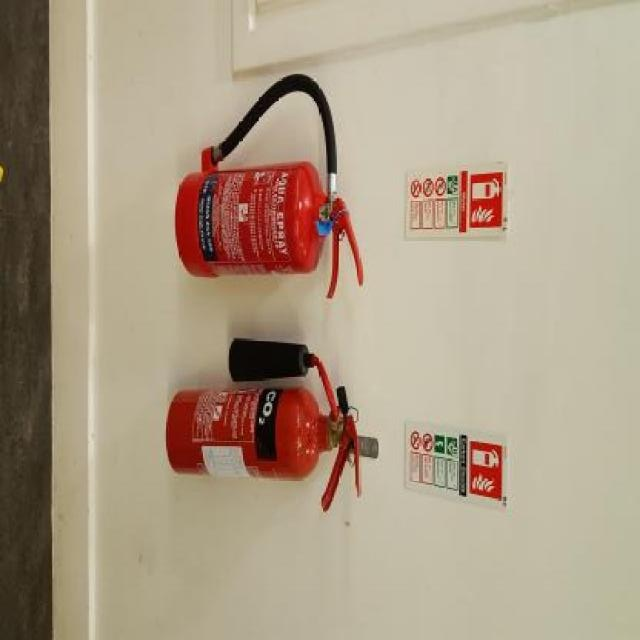fire extinguisher: (164, 68, 365, 308), (164, 335, 361, 514)
